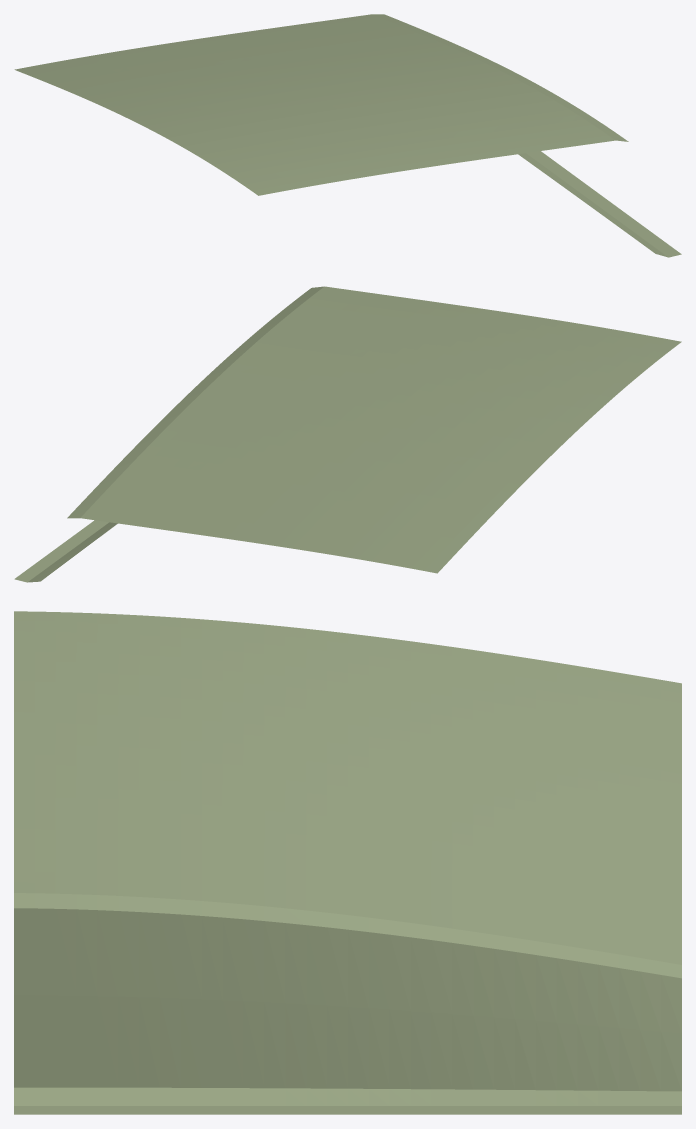
The model's file is valley-7-14.glb.
The picture shows the model from 3 angles, top to bottom: view 1: azimuth 30°, elevation 25°; view 2: azimuth 150°, elevation 25°; view 3: azimuth 270°, elevation 25°; orthographic projection. The views are drawn at different scales.
Parts seen in each view (by area): view 1: valley-7-14; view 2: valley-7-14; view 3: valley-7-14.
Boxes of the visible parts, box(x1,y1,x2,y2) form: valley-7-14: box(14, 14, 681, 257); valley-7-14: box(14, 286, 681, 582); valley-7-14: box(14, 611, 681, 1114).
Bounding box in the file's own units: 256 × 93.47 × 256.
